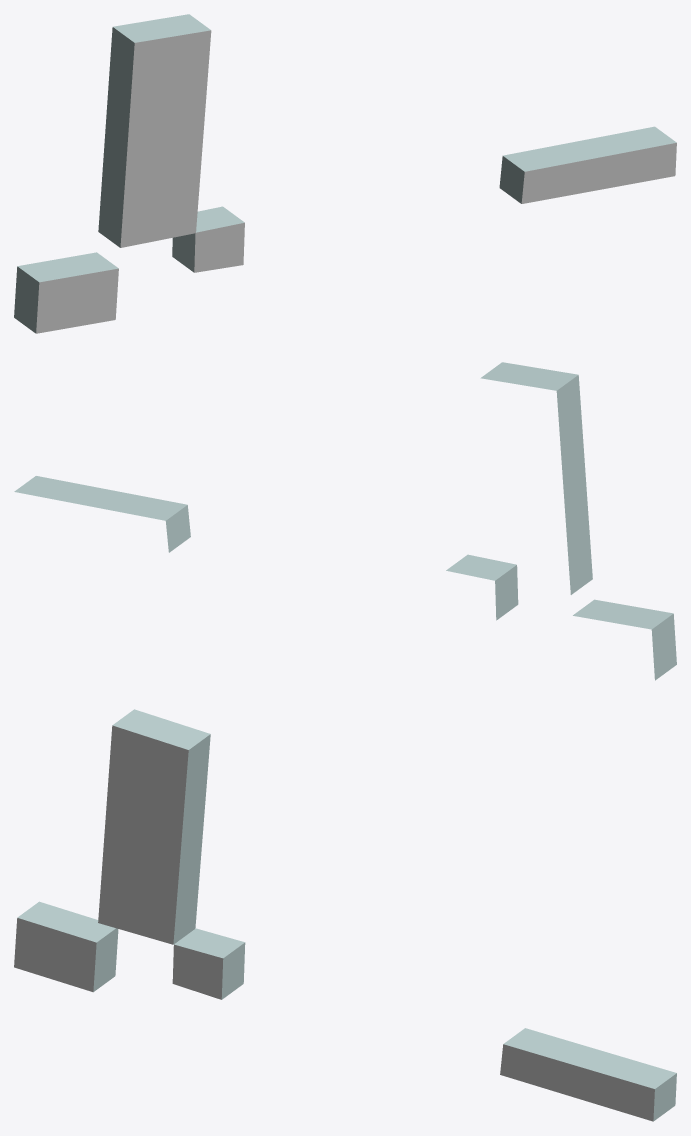
3 renders of one model, top to bottom at view 1: azimuth 30°, elevation 25°; view 2: azimuth 150°, elevation 25°; view 3: azimuth 330°, elevation 25°, orthographic.
Parts seen in each view (by area): view 1: 0_2_3_2_3_0_1_2_2; view 2: 0_2_3_2_3_0_1_2_2; view 3: 0_2_3_2_3_0_1_2_2.
Boxes of the visible parts, bbox=[...] form: 0_2_3_2_3_0_1_2_2: bbox=[14, 14, 676, 333]; 0_2_3_2_3_0_1_2_2: bbox=[14, 362, 676, 680]; 0_2_3_2_3_0_1_2_2: bbox=[14, 709, 676, 1121].
Bounding box in the file's own units: 50.29 × 20.39 × 3.14.
